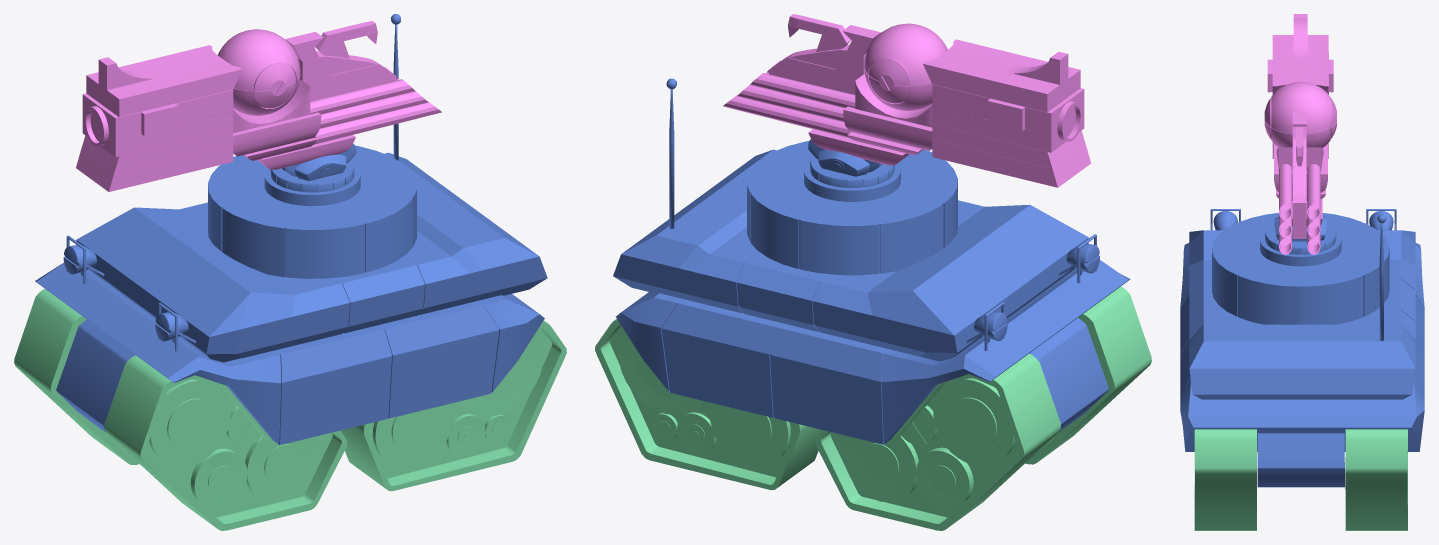
The model's file is enemy_tank.fbx.
3 views of the same model, side by side, from view 1: azimuth 30°, elevation 25°; view 2: azimuth 150°, elevation 25°; view 3: azimuth 270°, elevation 25° (orthographic). The views are drawn at different scales.
Visible parts, largest first — view 1: Tank Body, Tires, Gun, Sphere; view 2: Tank Body, Tires, Gun, Sphere, Antenna; view 3: Tank Body, Tires, Gun, Sphere, Antenna.
Part boxes in pixels (box(x1,y1,x2,y2)): Tank Body: box(35, 143, 547, 444); Tires: box(14, 289, 566, 530); Gun: box(76, 21, 441, 191); Sphere: box(218, 29, 300, 115); Tank Body: box(613, 139, 1130, 444); Tires: box(595, 286, 1151, 530); Gun: box(723, 14, 1091, 187); Sphere: box(864, 23, 947, 110); Antenna: box(666, 78, 676, 228); Tank Body: box(1180, 209, 1424, 487); Tires: box(1194, 429, 1407, 530); Gun: box(1267, 14, 1333, 254); Sphere: box(1264, 81, 1336, 147); Antenna: box(1377, 214, 1386, 340).
Size of the model in its own units: 152 by 149 by 88.77.
